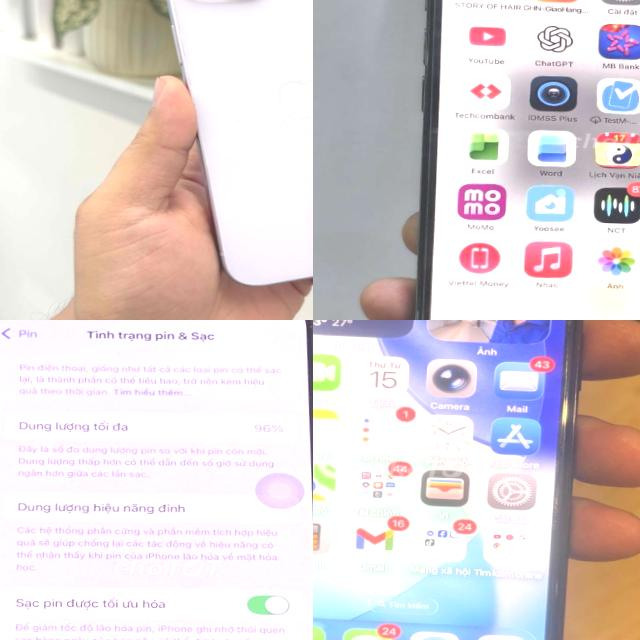gen_11: (313, 320, 607, 640)
gen_12_13: (0, 320, 313, 640), (392, 0, 640, 320)
gen_14: (134, 0, 313, 301)
